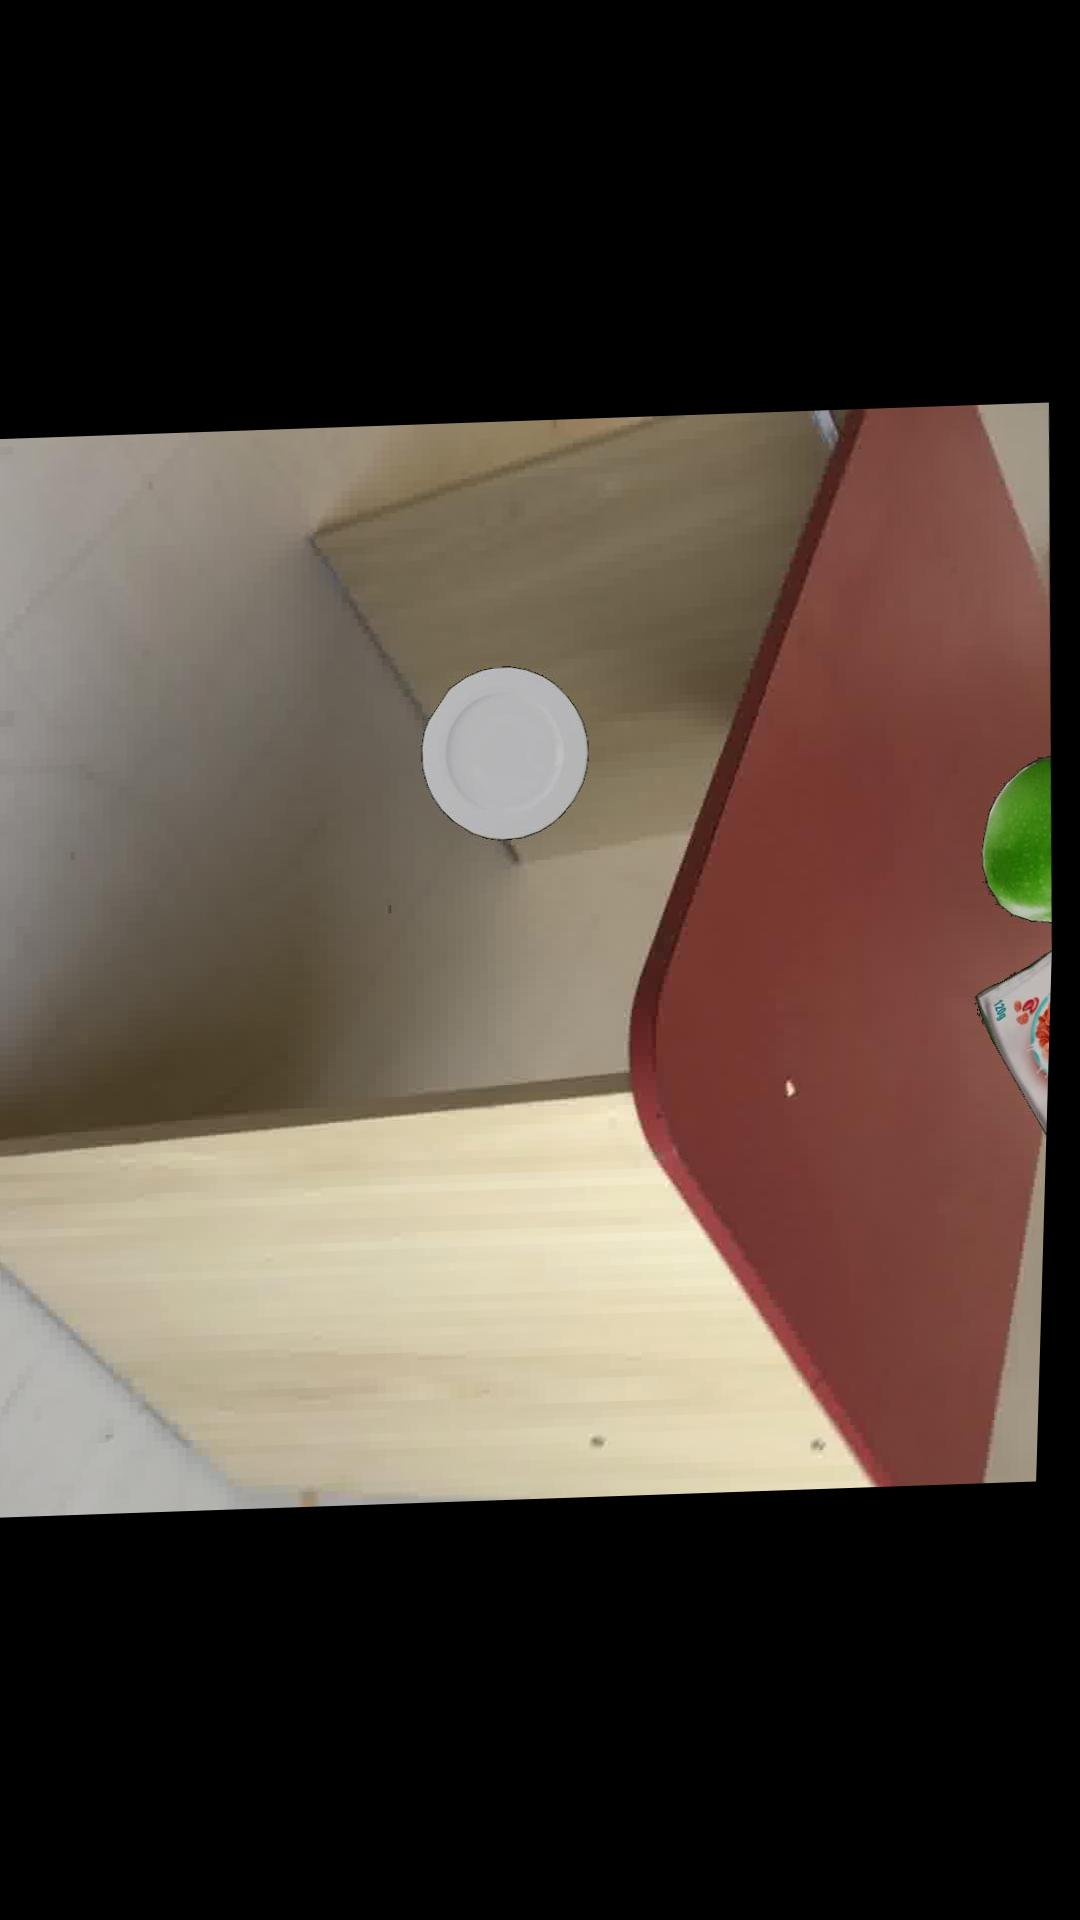corn flakes: (982, 948, 1058, 1131)
green apple: (988, 754, 1058, 920)
plate: (427, 663, 595, 837)
